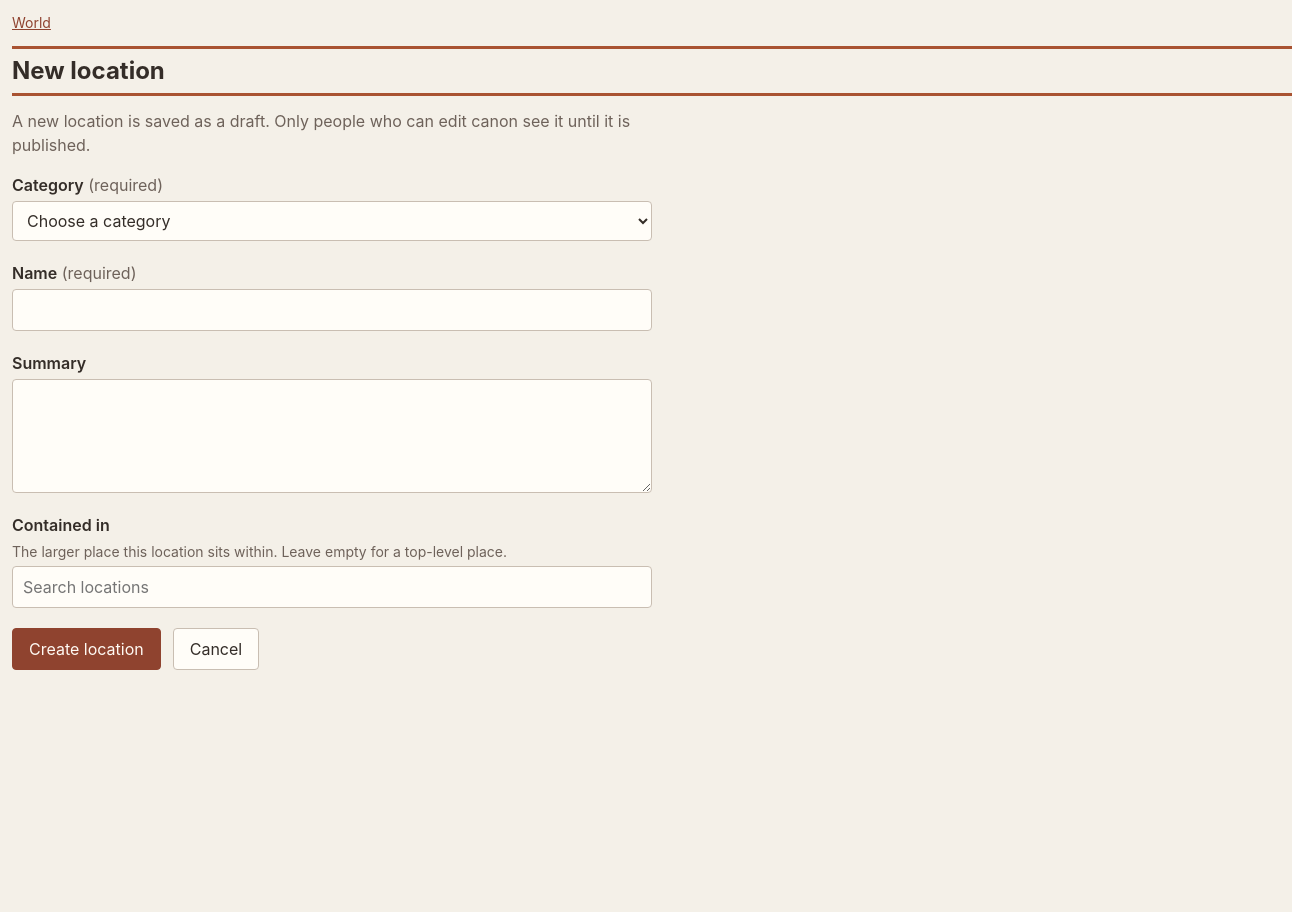
Test case: CreateLocationPage › maps an invalid parent onto the parent field and keeps everything entered
Select "Region" in the dropdown labelled "Category (required)" at (332, 221), box x1=12 y1=201 x2=652 y2=241
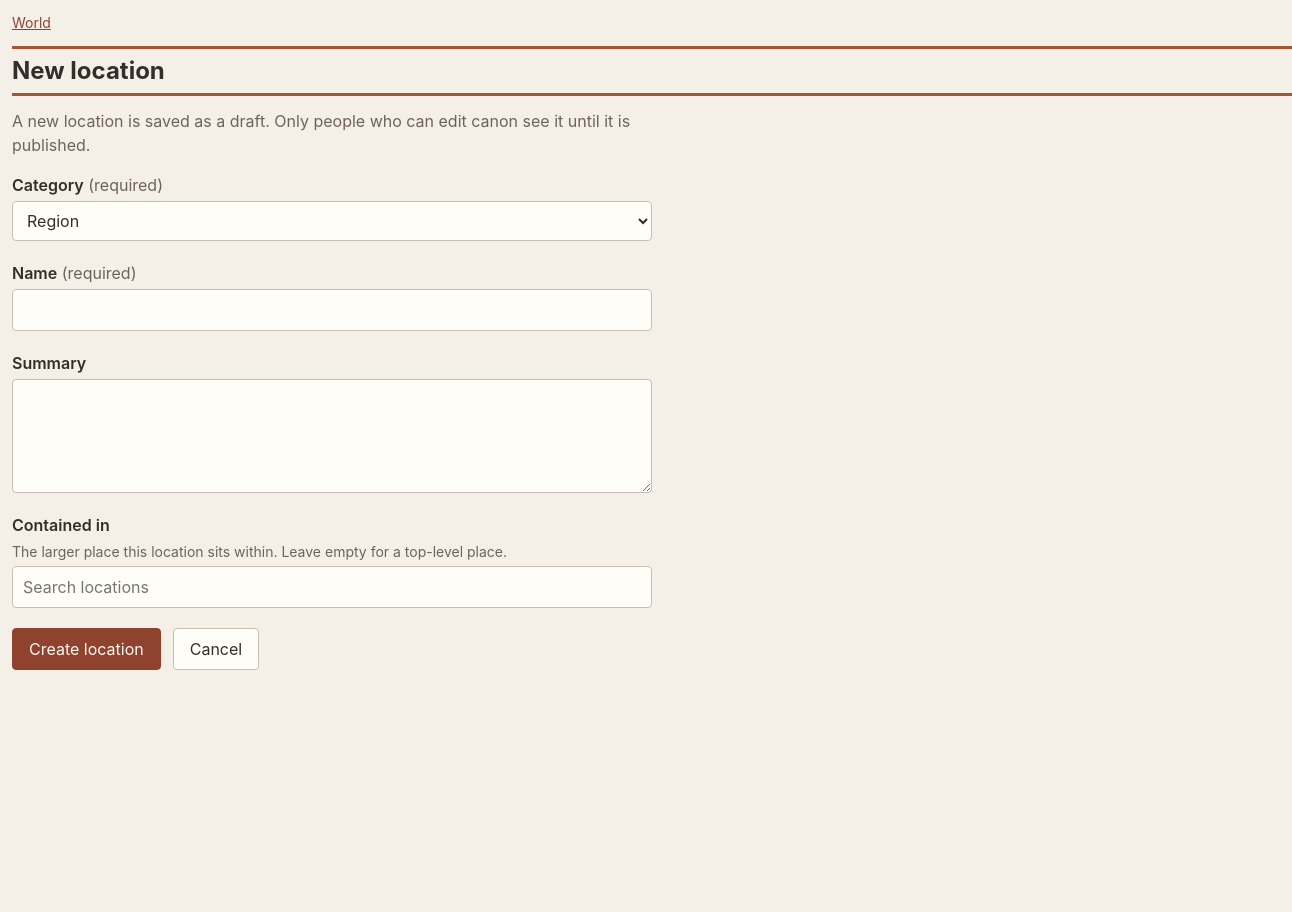
Type "Vale" into the field labelled "Name (required)" at (332, 310), box x1=12 y1=289 x2=652 y2=331
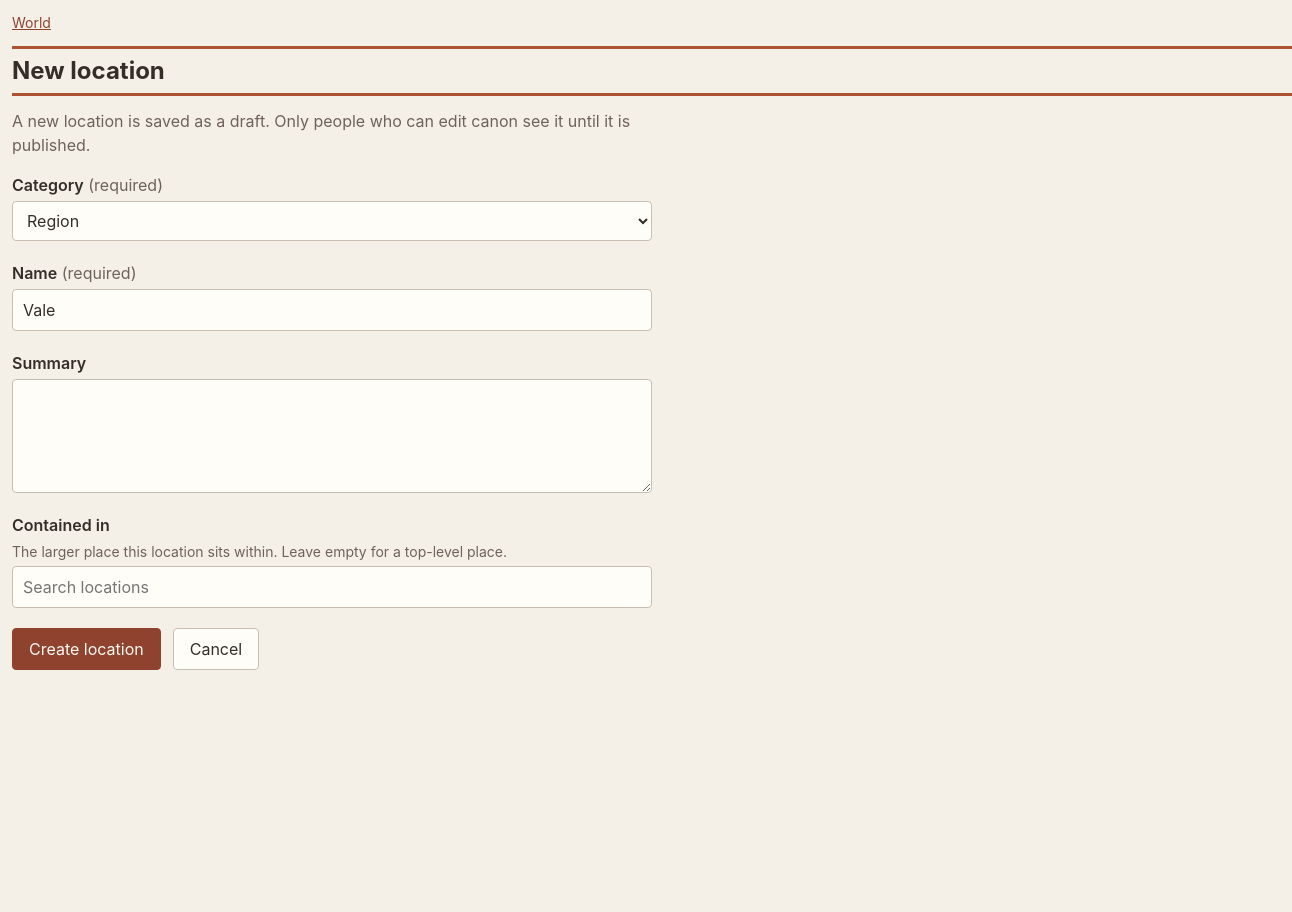
Click the button "Create location" at (86, 649), box x1=12 y1=628 x2=161 y2=670
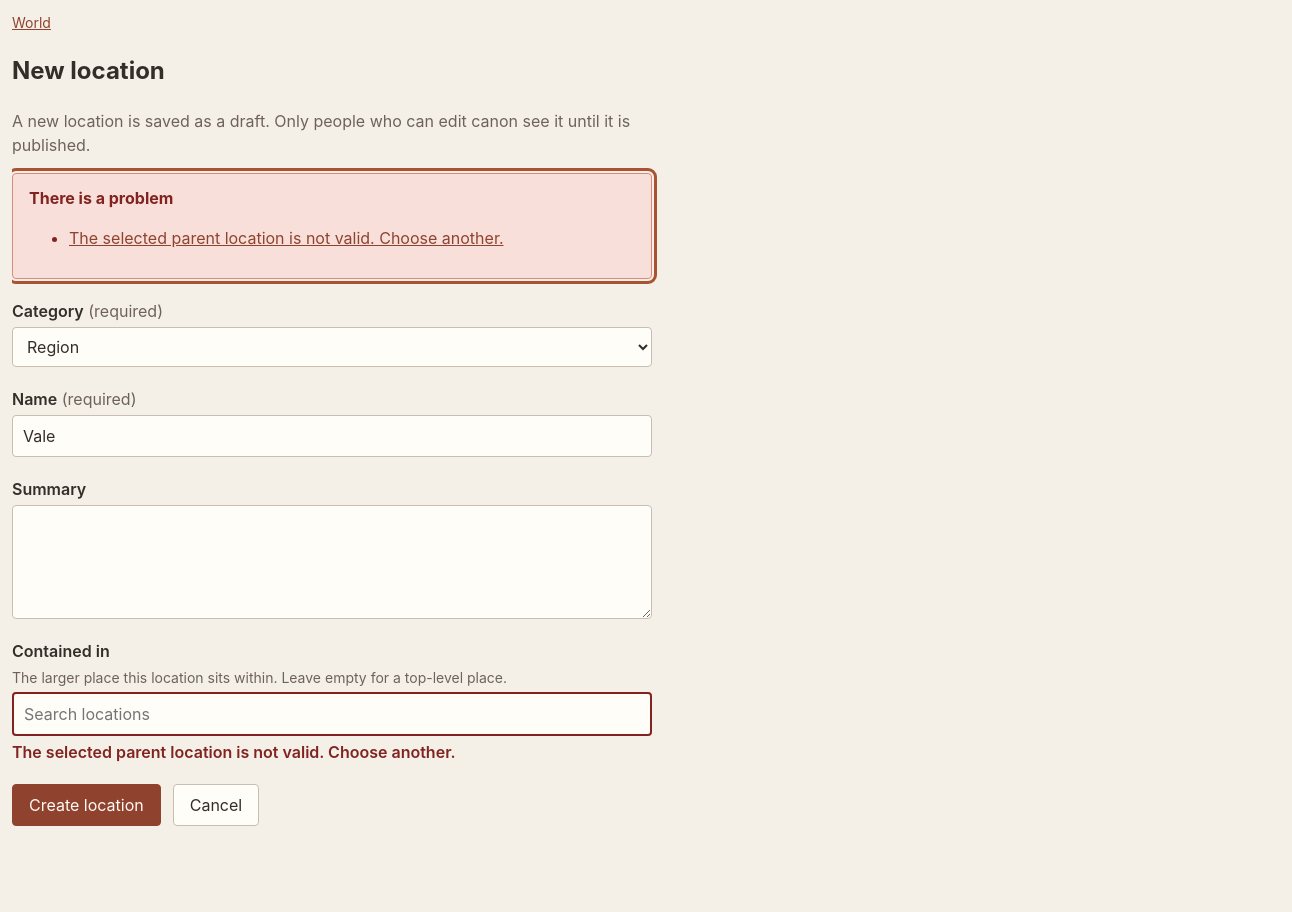
Expected: the message shows "The selected parent location is not valid", x1=69 y1=228 x2=504 y2=248
